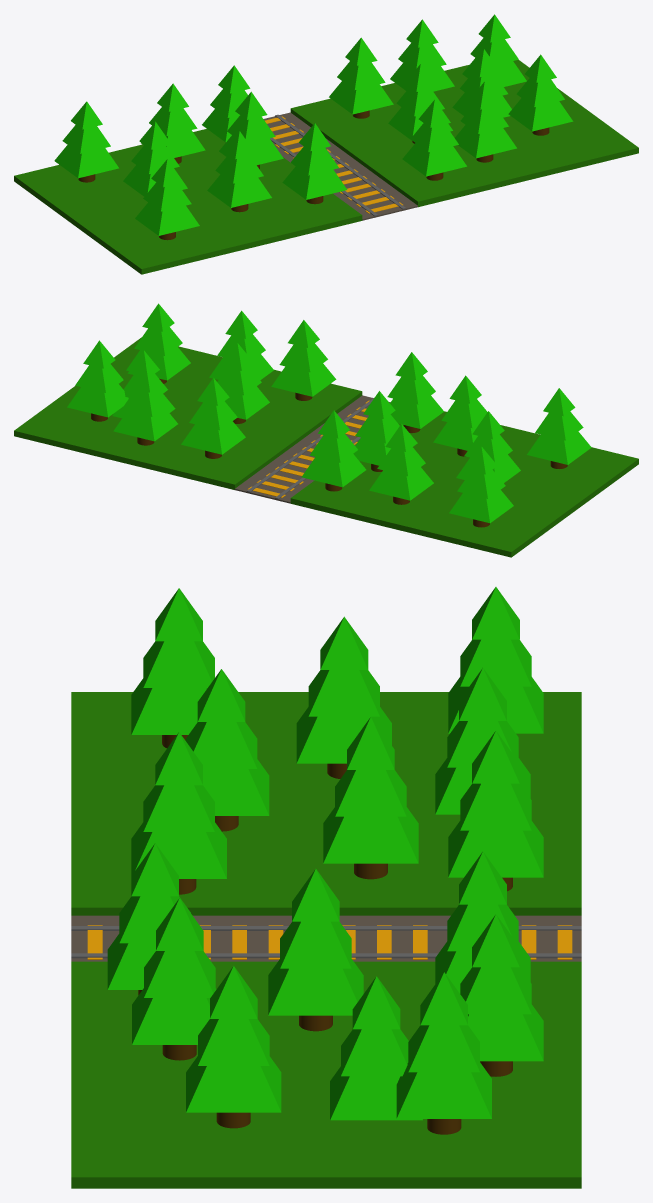
File: m_train_3.fbx
The picture shows the model from 3 angles, top to bottom: view 1: azimuth 30°, elevation 25°; view 2: azimuth 150°, elevation 25°; view 3: azimuth 270°, elevation 25°; orthographic projection. The views are drawn at different scales.
Parts seen in each view (by area): view 1: GreenZoneLeft, GreenZone_1, railway_terrain_1, Pyramid_2_4, Pyramid_2_7, Pyramid_2_11, Pyramid_2_12, Pyramid_2_14, Pyramid_2_9, Pyramid_2_13, Pyramid_2_6, woods (+41 smaller); view 2: GreenZoneLeft, GreenZone_1, railway_terrain_1, Pyramid_2_7, Pyramid_2_9, Pyramid_2_10, Pyramid_2_20, Pyramid_2_13, Pyramid_2_14, Pyramid_2_5, Pyramid_2, Pyramid_2_11 (+39 smaller); view 3: GreenZone_1, GreenZoneLeft, railway_terrain_1, Pyramid_2_19, Pyramid_2_4, Pyramid_2, Pyramid_2_8, Pyramid_2_10, Pyramid_2_11, Pyramid_2_6, Pyramid_2_5, woods (+42 smaller).
Boxes of the visible parts, box(x1,y1,x2,y2) form: GreenZoneLeft: box(14, 129, 362, 274); GreenZone_1: box(290, 59, 638, 207); railway_terrain_1: box(263, 112, 417, 220); Pyramid_2_4: box(508, 98, 573, 131); Pyramid_2_7: box(402, 143, 466, 176); Pyramid_2_11: box(282, 166, 347, 199); Pyramid_2_12: box(207, 174, 271, 207); Pyramid_2_14: box(135, 202, 199, 235); Pyramid_2_9: box(329, 81, 393, 114); Pyramid_2_13: box(54, 145, 118, 178); Pyramid_2_6: box(455, 125, 516, 158); woods: box(265, 116, 403, 213); GreenZoneLeft: box(290, 411, 638, 557); GreenZone_1: box(14, 337, 362, 489); railway_terrain_1: box(234, 395, 390, 503); Pyramid_2_7: box(271, 363, 336, 396); Pyramid_2_9: box(181, 421, 245, 454); Pyramid_2_10: box(301, 454, 366, 487); Pyramid_2_20: box(369, 467, 433, 500); Pyramid_2_13: box(449, 490, 513, 523); Pyramid_2_14: box(527, 431, 591, 464); Pyramid_2_5: box(113, 408, 177, 441); Pyramid_2: box(67, 384, 128, 417); Pyramid_2_11: box(390, 395, 443, 428); GreenZone_1: box(71, 961, 581, 1188); GreenZoneLeft: box(71, 692, 581, 915); railway_terrain_1: box(71, 915, 581, 961); Pyramid_2_19: box(323, 807, 418, 863); Pyramid_2_4: box(186, 1056, 281, 1112); Pyramid_2: box(396, 1062, 491, 1118); Pyramid_2_8: box(268, 959, 363, 1015); Pyramid_2_10: box(448, 821, 543, 877); Pyramid_2_11: box(131, 822, 226, 878); Pyramid_2_6: box(132, 988, 216, 1044); Pyramid_2_5: box(468, 1004, 543, 1061); woods: box(87, 925, 572, 959).
Bounding box in the file's own units: 5629 × 1029 × 2500.
